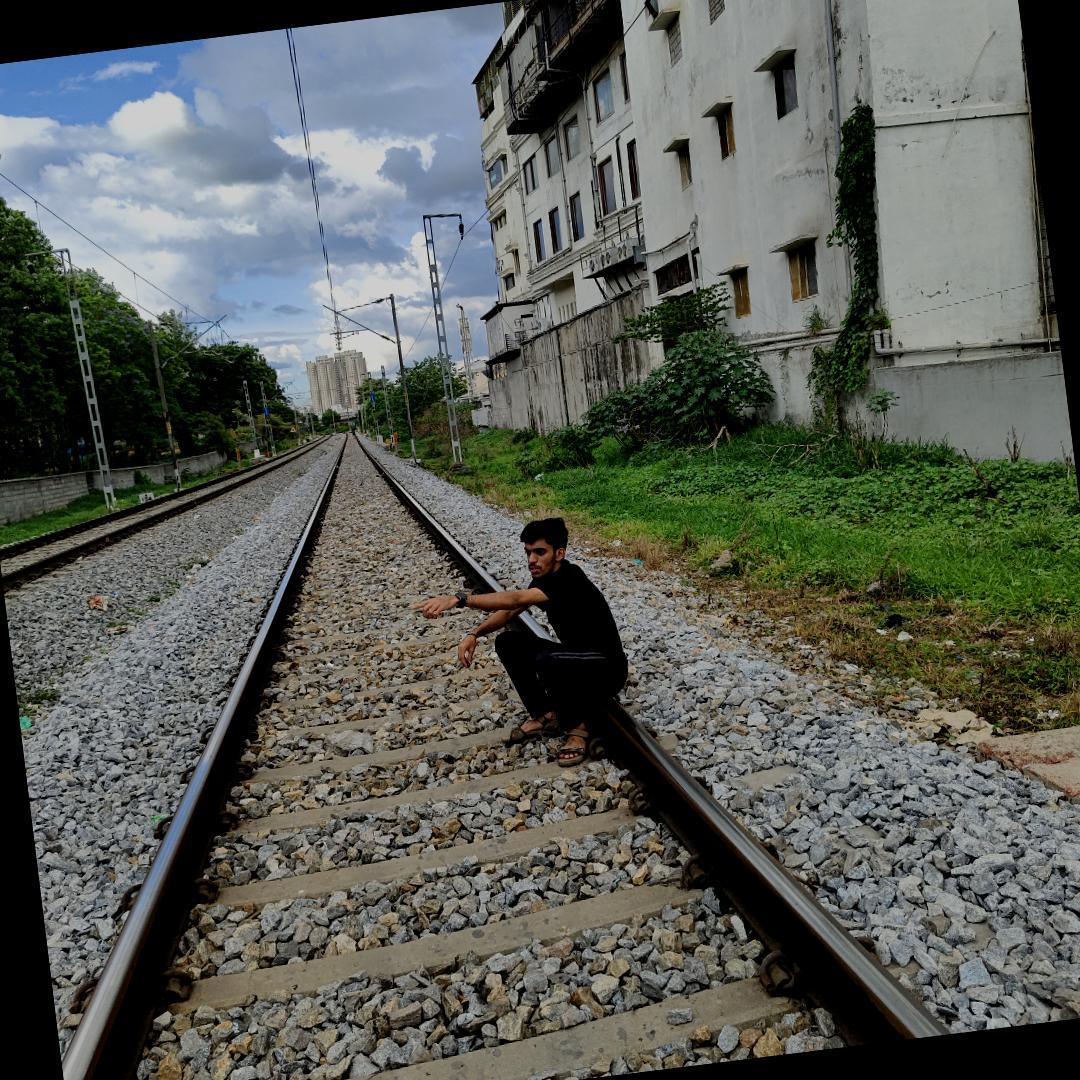sitting: (475, 501, 647, 771)
